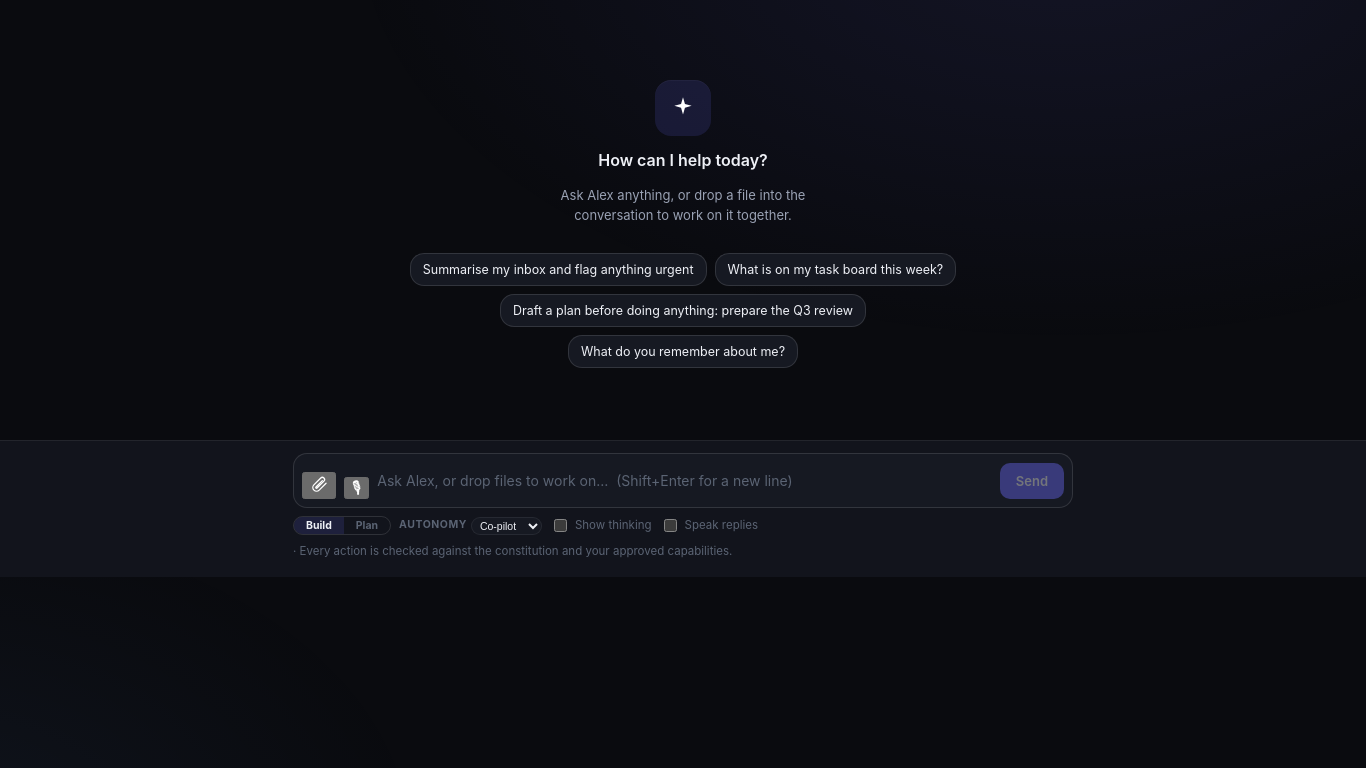
Chat streaming › renders activity chips inline as SSE events arrive
Replace the text in the text box with placeholder "Ask Alex" with "show my tasks": (685,481) [377,462,992,499]
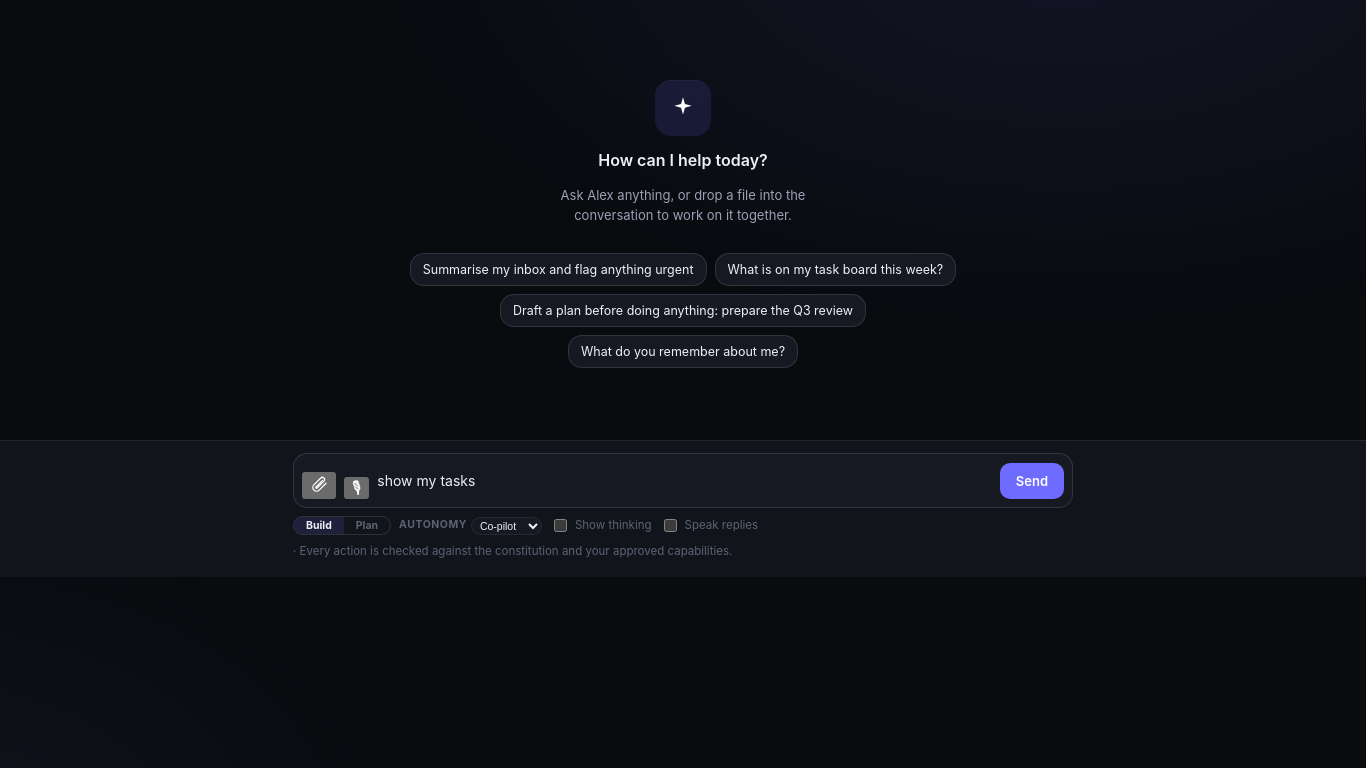
Click the button "Send": (1032,481) [1000,463,1064,499]
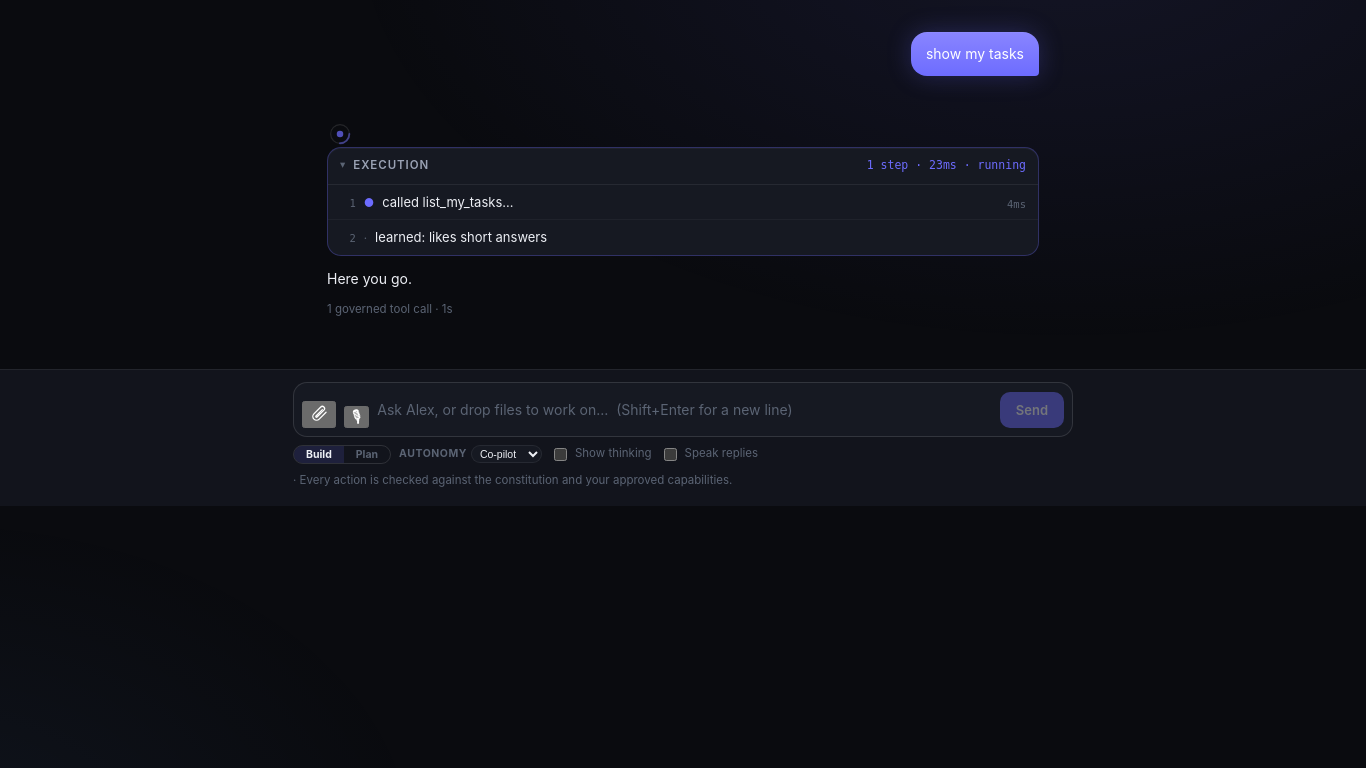
Check: the text "show my tasks" is shown, box [911,32,1039,76]
Check: the text "called list_my_tasks…" is shown, box [382,192,514,212]
Check: the text "learned: likes short answers" is shown, box [375,227,547,247]
